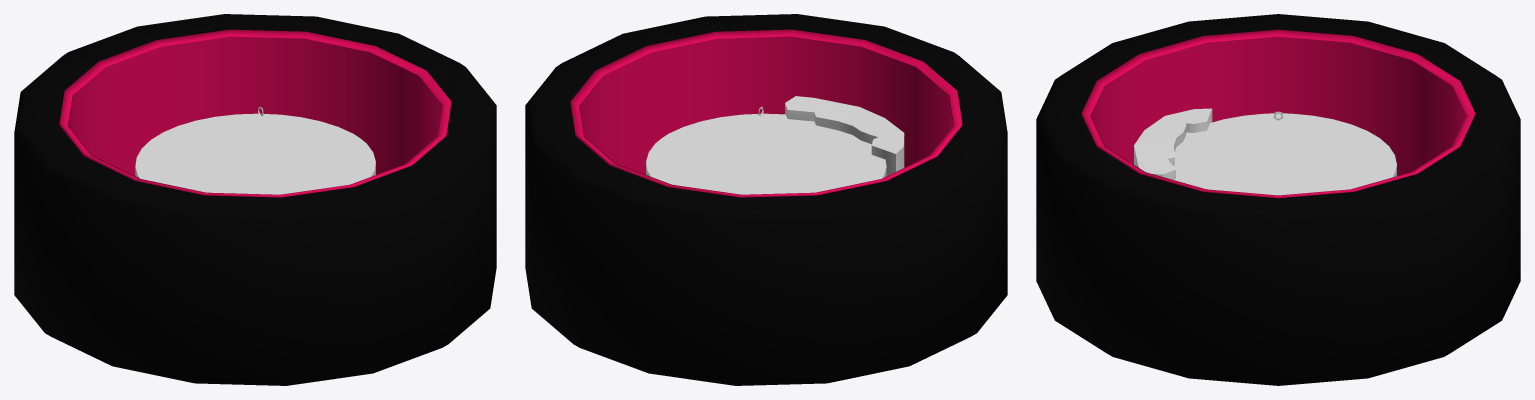
3 views of the same model, side by side, from view 1: azimuth 30°, elevation 25°; view 2: azimuth 150°, elevation 25°; view 3: azimuth 270°, elevation 25° (orthographic).
Visible parts, largest first — view 1: RearRight; view 2: RearRight; view 3: RearRight.
Part boxes in pixels (left/top/right/bottom): RearRight: left=14, top=14, right=496, bottom=385; RearRight: left=525, top=14, right=1007, bottom=385; RearRight: left=1036, top=14, right=1520, bottom=385.
Size of the model in its own units: 18.19 by 18.19 by 7.39.
